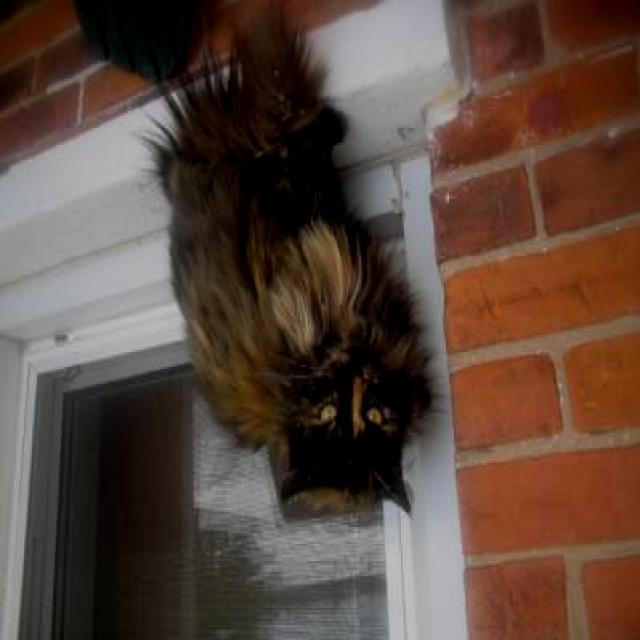Kucing: (159, 46, 434, 563)
